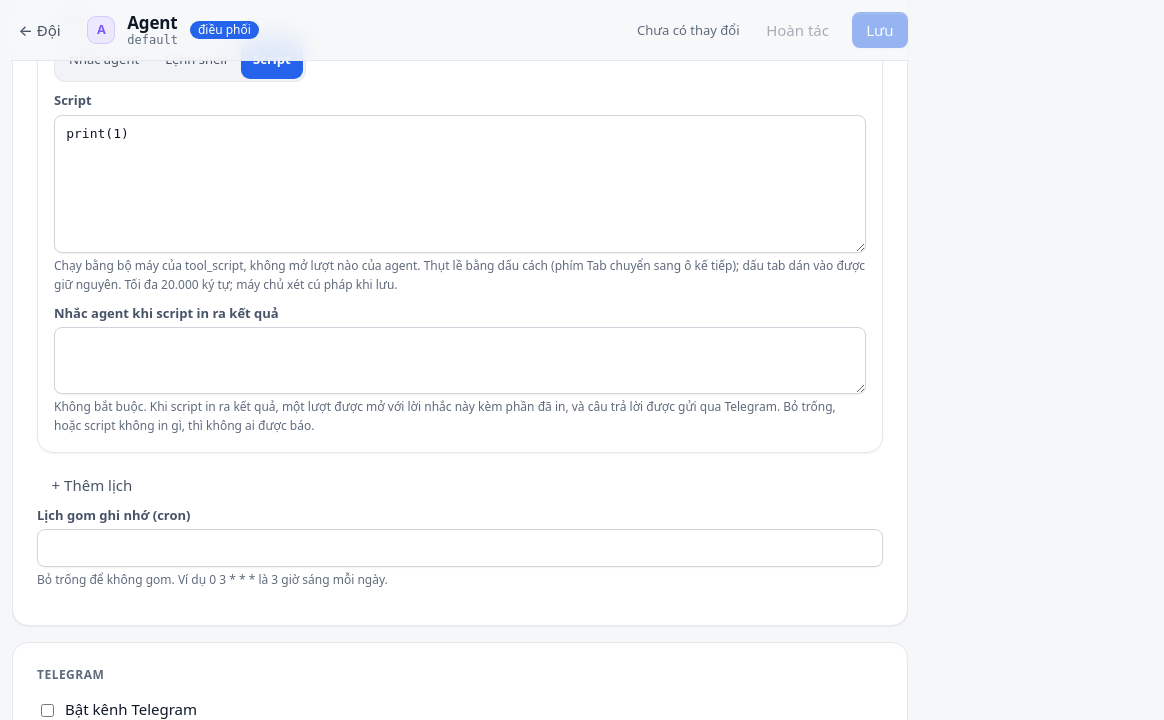
Scenario: a prompt to follow that was typed and taken back › is no prompt once its box is emptied, on a script that had none
The width and height of the screenshot is (1164, 720).
(page scrolled)
In the text box labelled "Nhắc agent khi script in ra kết quả": {"x": 460, "y": 361} x1=54 y1=327 x2=866 y2=394, type "Báo kết quả"
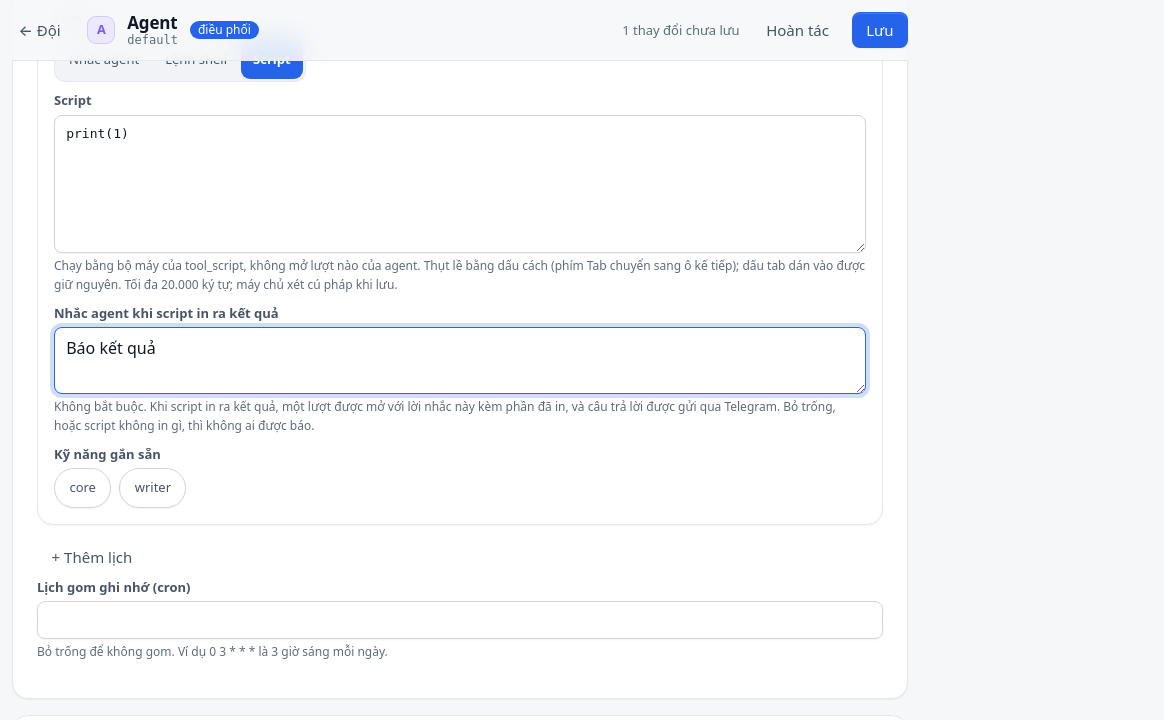
Expected: the button "Lưu" is enabled, x1=852 y1=12 x2=908 y2=48
Clear the text box labelled "Nhắc agent khi script in ra kết quả": {"x": 460, "y": 361} x1=54 y1=327 x2=866 y2=394
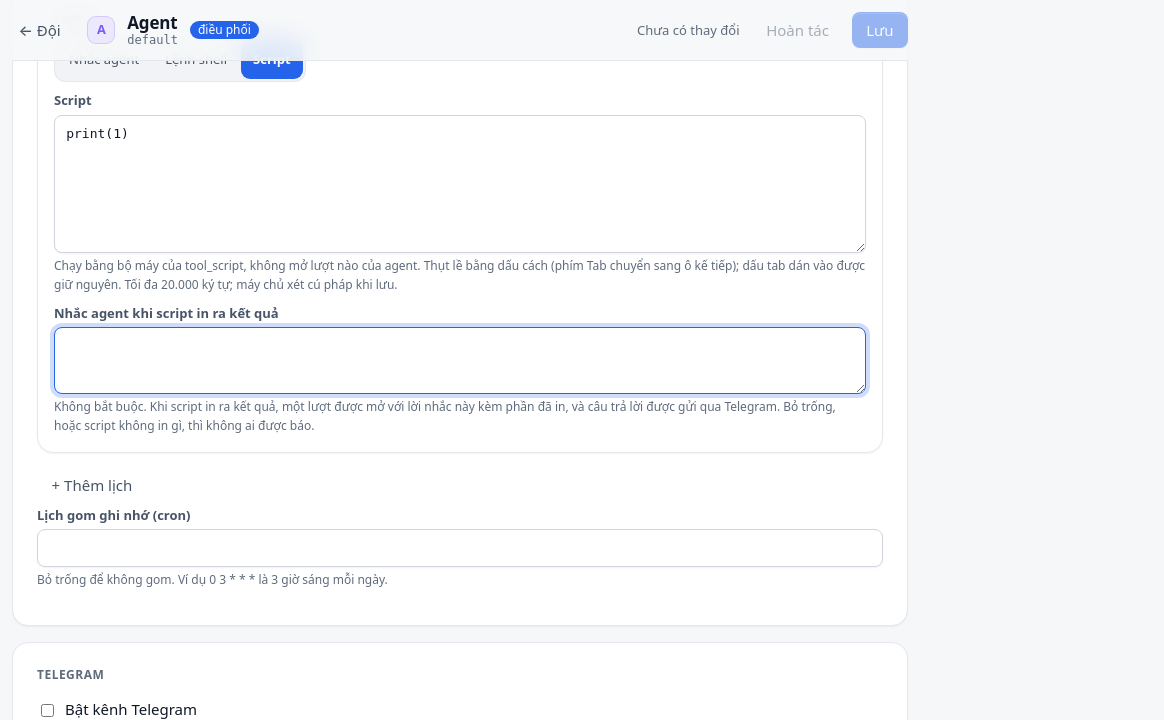
Expected: the text "Chưa có thay đổi" is shown, x1=637 y1=20 x2=740 y2=40
Expected: the button "Lưu" is disabled, x1=852 y1=12 x2=908 y2=48
